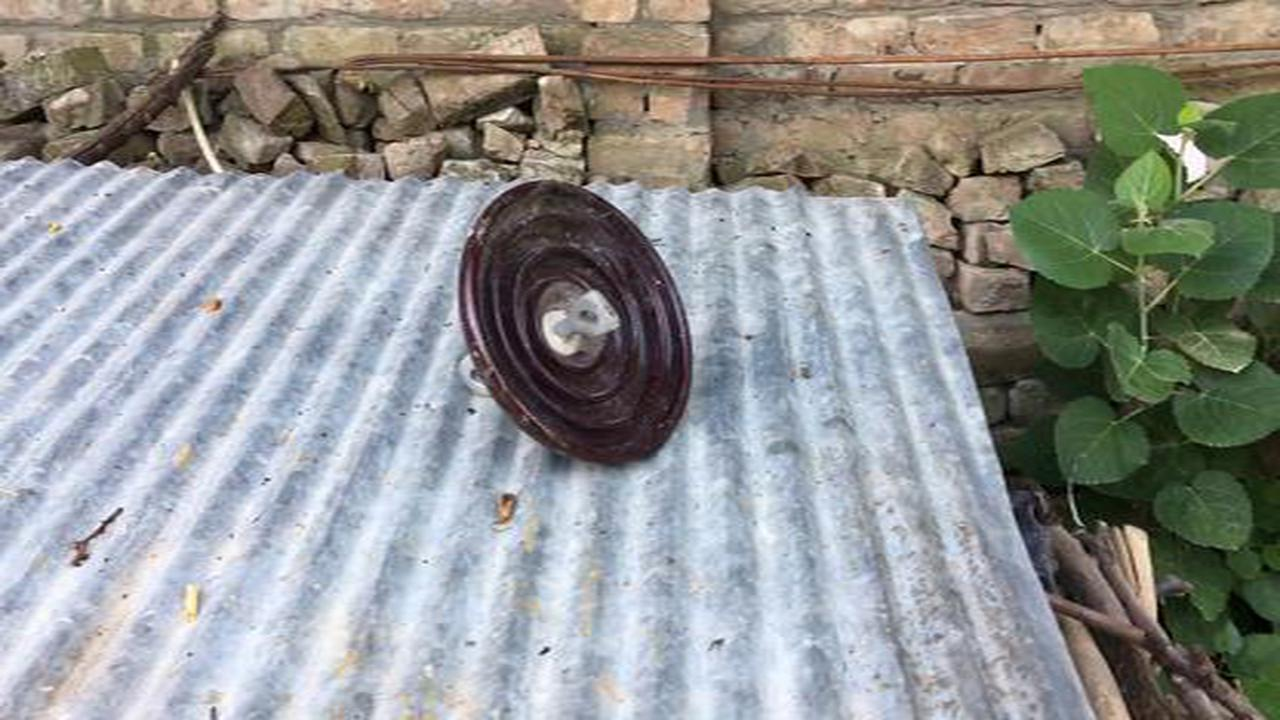insulator_disc: (454, 174, 695, 474)
